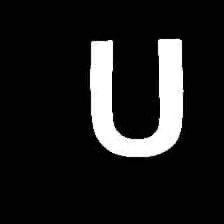LTR_U: (81, 28, 190, 163)
